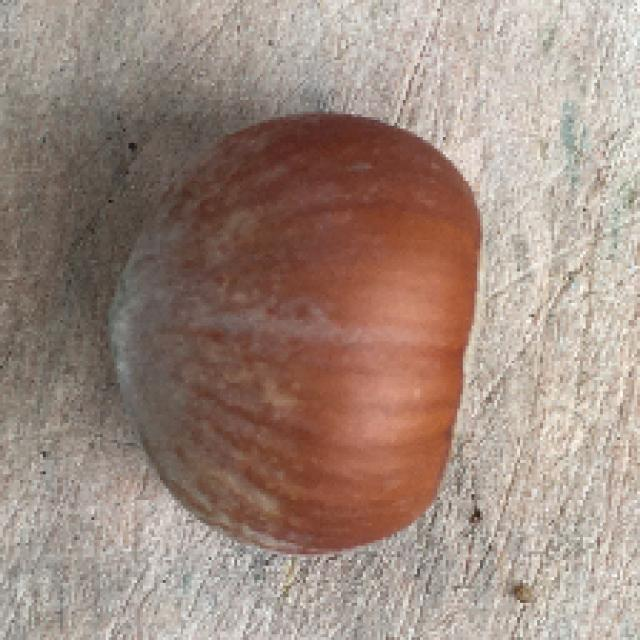qualityHazelnut: (101, 99, 488, 561)
